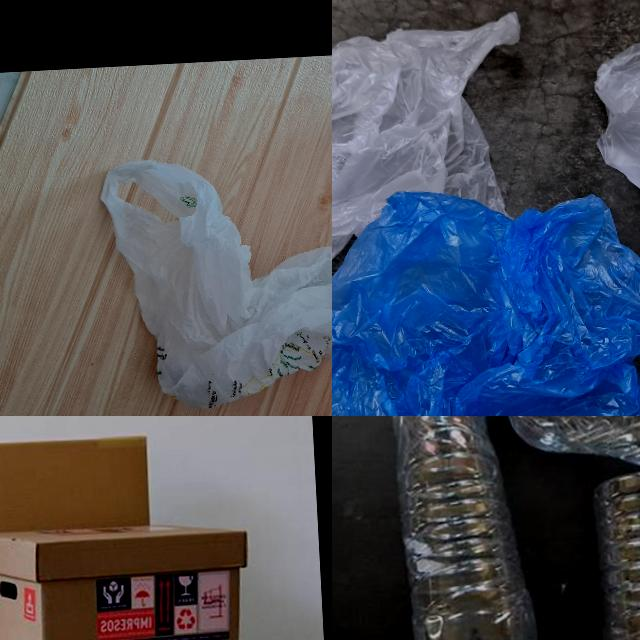garrafa plástica: (378, 416, 541, 640), (592, 467, 640, 640), (500, 416, 640, 474)
papelão: (0, 434, 159, 640), (0, 519, 260, 640)
sacola plástica: (332, 173, 640, 416), (96, 146, 332, 416), (332, 13, 532, 283), (588, 28, 640, 341)
